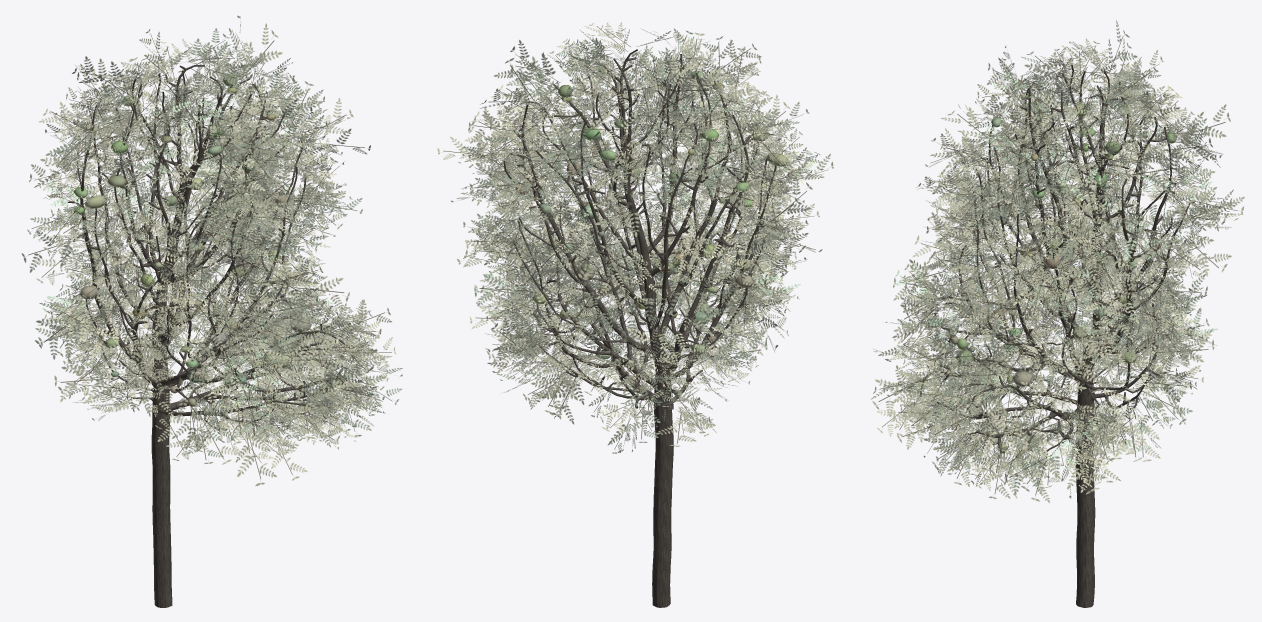
File: tree_50_broadleaf.glb
The picture shows the model from 3 angles, left to right: view 1: azimuth 30°, elevation 25°; view 2: azimuth 150°, elevation 25°; view 3: azimuth 270°, elevation 25°; orthographic projection.
Visible parts, largest first — view 1: tree_50_broadleaf.leaves, tree_50_broadleaf.trunk_branches, tree_50_broadleaf.foliage_volume; view 2: tree_50_broadleaf.leaves, tree_50_broadleaf.trunk_branches, tree_50_broadleaf.foliage_volume; view 3: tree_50_broadleaf.leaves, tree_50_broadleaf.trunk_branches, tree_50_broadleaf.foliage_volume.
Boxes of the visible parts, x1,y1,x2,y2 form: tree_50_broadleaf.leaves: (21,15,402,486); tree_50_broadleaf.trunk_branches: (67,65,354,607); tree_50_broadleaf.foliage_volume: (73,74,345,406); tree_50_broadleaf.leaves: (437,22,833,453); tree_50_broadleaf.trunk_branches: (503,49,776,607); tree_50_broadleaf.foliage_volume: (515,67,788,396); tree_50_broadleaf.leaves: (871,20,1244,502); tree_50_broadleaf.trunk_branches: (920,64,1194,607); tree_50_broadleaf.foliage_volume: (926,92,1176,453).
Size of the model in its own units: 9.62 by 14.88 by 9.31.
Materials: 3 (2 with a texture image).
